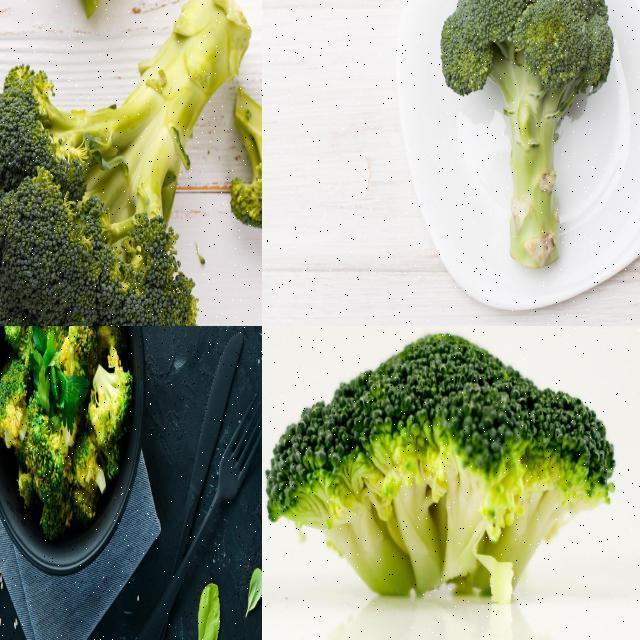broccoli: (262, 326, 619, 621), (0, 0, 258, 325), (438, 0, 617, 275), (20, 391, 68, 512), (86, 356, 138, 458), (230, 75, 261, 235), (0, 357, 36, 455), (74, 435, 112, 521), (4, 326, 44, 342)
